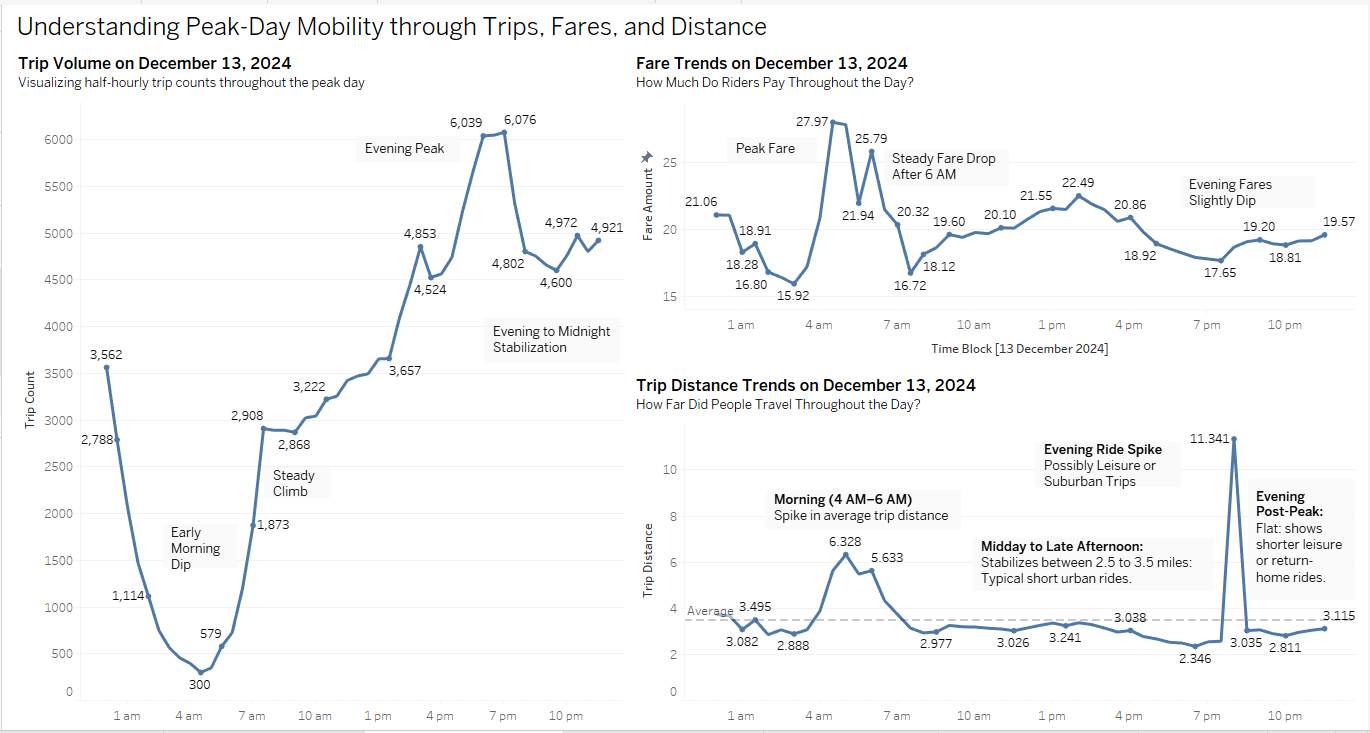

Layout of this report page (visuals, bound fields, positions):
{"tool":"tableau","page":{"name":"Dashboard 3: Dec 13 Taxi Behaviour","canvas":[1366,768],"ordinal":2},"visuals":[{"type":"title","box":[8,8,1350,39]},{"type":"worksheet","title":"Trip Volume - Dec 13","mark":"Automatic","rows":["trip_count"],"cols":["time_block"],"box":[8,47,618,713]},{"type":"worksheet","title":"Fare Trends-Dec 13","mark":"Automatic","rows":["fare_amount"],"cols":["time_block"],"box":[626,47,732,322.4]},{"type":"worksheet","title":"Trip Distance - Dec 13","mark":"Automatic","rows":["trip_distance"],"cols":["time_block"],"box":[626,369.4,732,390.6]}]}

Visuals, with their boxes on the page's 1366x768 design canvas (x1, y1, x2, y2). These are canvas units, not pixel positions in the 1370x733 screenshot, which may show the page scaled, cropped or inside an application window:
title: 8 8 1358 47
"Trip Volume - Dec 13" worksheet: 8 47 626 760
"Fare Trends-Dec 13" worksheet: 626 47 1358 369
"Trip Distance - Dec 13" worksheet: 626 369 1358 760
